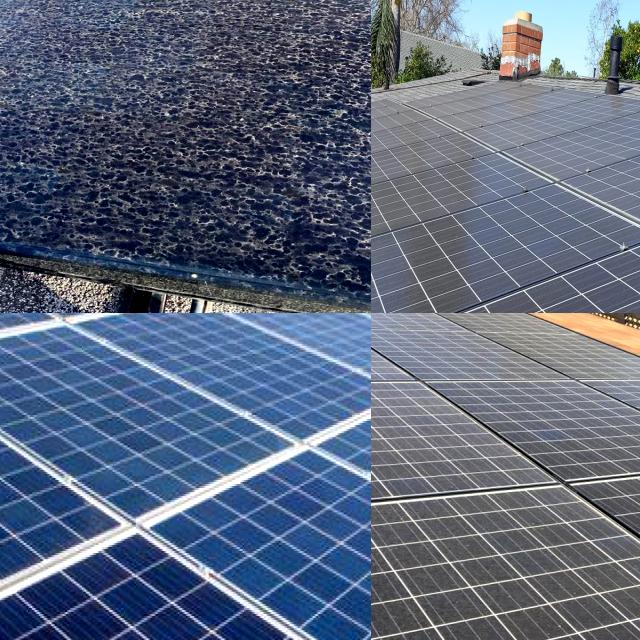crack: (0, 313, 307, 529), (0, 485, 371, 640), (109, 449, 371, 640), (66, 313, 371, 454), (83, 313, 371, 449), (203, 313, 371, 417)
dust: (92, 0, 371, 178), (135, 185, 371, 275), (6, 17, 88, 233), (0, 0, 79, 221), (374, 525, 602, 575), (418, 586, 626, 640), (94, 0, 365, 38), (0, 40, 46, 200), (428, 430, 518, 500), (103, 0, 306, 31), (371, 387, 424, 505), (0, 0, 78, 55), (0, 0, 94, 34), (112, 0, 345, 12), (0, 0, 28, 40)
